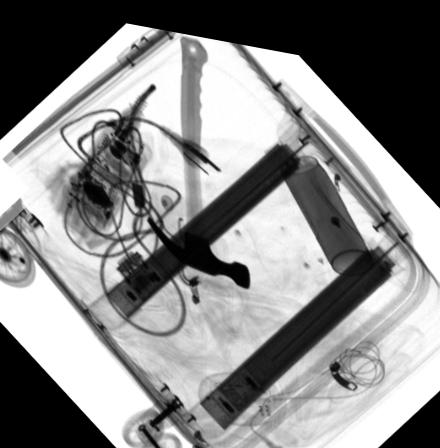Hammer: (147, 27, 250, 279)
